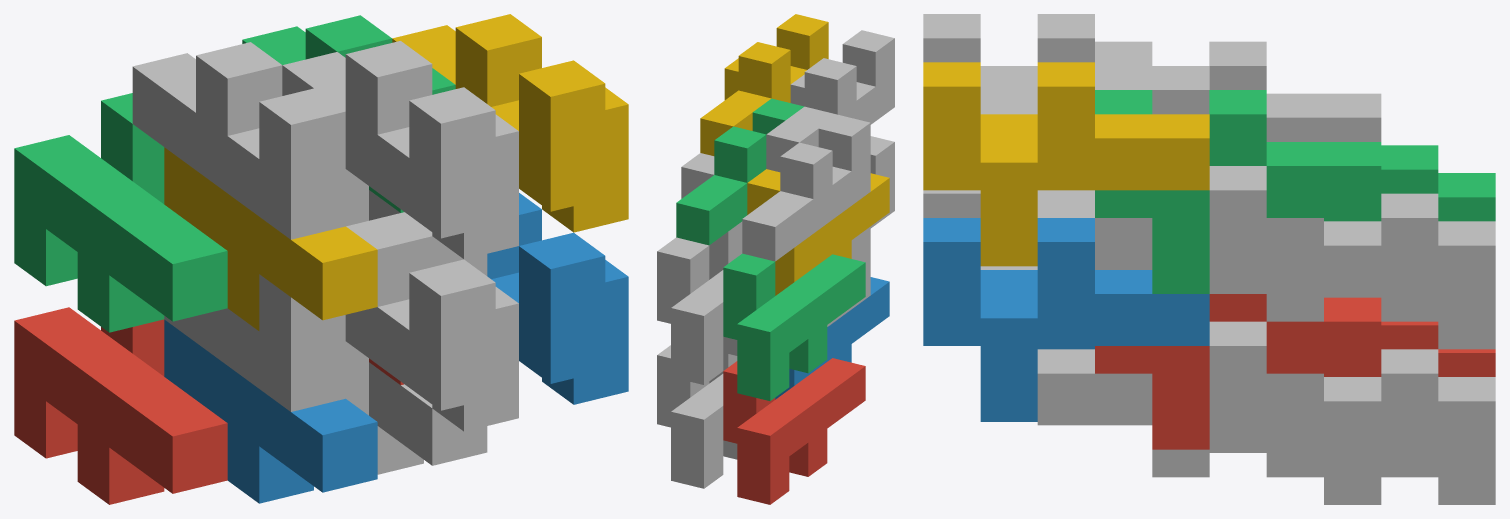
Rendered from tiling.obj.
The picture shows the model from 3 angles, left to right: view 1: azimuth 30°, elevation 25°; view 2: azimuth 150°, elevation 25°; view 3: azimuth 270°, elevation 25°; orthographic projection. The views are drawn at different scales.
Parts seen in each view (by area): view 1: copy_1_domain_3, copy_1_domain_1, copy_2_domain_3, copy_2_domain_4, copy_2_domain_8, copy_2_domain_2, copy_2_domain_6, copy_1_domain_2, copy_1_domain_4, copy_2_domain_1, copy_1_domain_6, copy_2_domain_7 (+1 smaller); view 2: copy_1_domain_3, copy_1_domain_1, copy_2_domain_3, copy_2_domain_4, copy_1_domain_7, copy_2_domain_8, copy_2_domain_7, copy_1_domain_5, copy_1_domain_4, copy_1_domain_2, copy_1_domain_8, copy_2_domain_2 (+1 smaller); view 3: copy_2_domain_8, copy_2_domain_6, copy_1_domain_6, copy_1_domain_5, copy_2_domain_7, copy_1_domain_7, copy_1_domain_8, copy_2_domain_5, copy_2_domain_4, copy_2_domain_3, copy_1_domain_3, copy_1_domain_1 (+1 smaller).
Part boxes in pixels (box(x1,y1,x2,y2)): copy_1_domain_3: box(14, 93, 227, 332); copy_1_domain_1: box(14, 307, 227, 504); copy_2_domain_3: box(132, 42, 368, 239); copy_2_domain_4: box(282, 41, 518, 259); copy_2_domain_8: box(392, 14, 628, 232); copy_2_domain_2: box(345, 213, 518, 431); copy_2_domain_6: box(487, 193, 628, 404); copy_1_domain_2: box(164, 319, 377, 503); copy_1_domain_4: box(164, 147, 377, 330); copy_2_domain_1: box(164, 274, 368, 415); copy_1_domain_6: box(369, 362, 487, 474); copy_2_domain_7: box(242, 15, 455, 212); copy_1_domain_3: box(723, 253, 865, 400); copy_1_domain_1: box(723, 358, 865, 504); copy_2_domain_3: box(742, 114, 870, 261); copy_2_domain_4: box(766, 30, 894, 172); copy_1_domain_7: box(657, 237, 737, 384); copy_2_domain_8: box(700, 14, 828, 155); copy_2_domain_7: box(676, 98, 804, 245); copy_1_domain_5: box(657, 345, 737, 488); copy_1_domain_4: box(747, 169, 889, 295); copy_1_domain_2: box(775, 277, 889, 399); copy_1_domain_8: box(681, 153, 742, 279); copy_2_domain_2: box(870, 136, 894, 228); copy_2_domain_8: box(923, 62, 1209, 266); copy_2_domain_6: box(923, 218, 1209, 421); copy_1_domain_6: box(1037, 321, 1323, 477); copy_1_domain_5: box(1209, 349, 1495, 504); copy_2_domain_7: box(1095, 90, 1381, 293); copy_1_domain_7: box(1324, 193, 1495, 349); copy_1_domain_8: box(1037, 166, 1323, 321); copy_2_domain_5: box(1095, 294, 1381, 449); copy_2_domain_4: box(923, 14, 1209, 114); copy_2_domain_3: box(1095, 41, 1381, 141); copy_1_domain_3: box(1324, 145, 1495, 221); copy_1_domain_1: box(1324, 321, 1495, 376).
Size of the model in its own units: 6 by 9 by 10.
